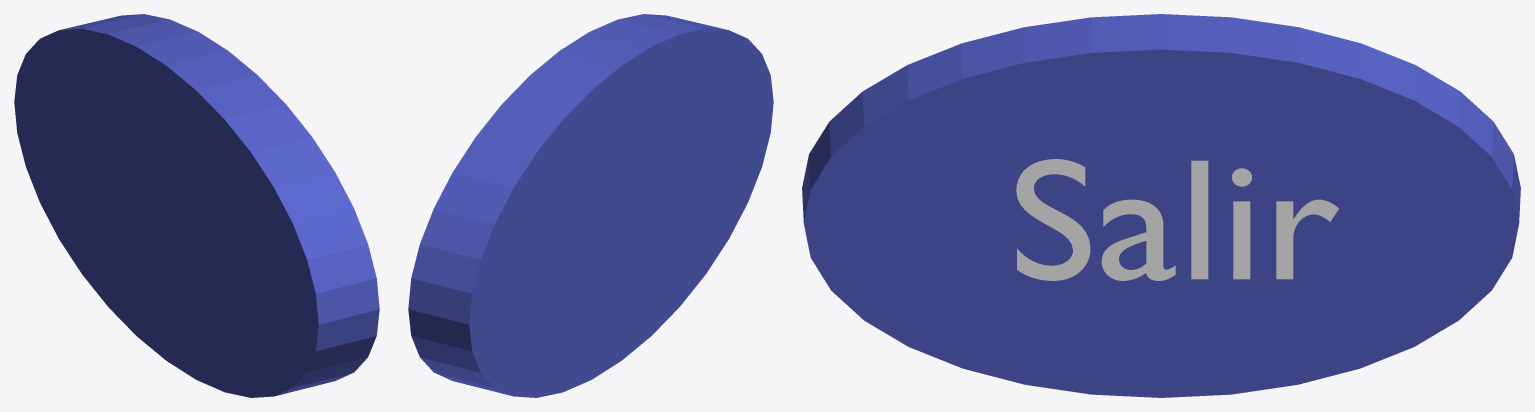
The model's file is salir.glb.
3 renders of one model, left to right at view 1: azimuth 30°, elevation 25°; view 2: azimuth 150°, elevation 25°; view 3: azimuth 270°, elevation 25°, orthographic. The views are drawn at different scales.
Visible parts, largest first — view 1: Cilindro; view 2: Cilindro; view 3: Cilindro, Texto.
Part boxes in pixels (x1,y1,x2,y2): Cilindro: [14, 14, 379, 397]; Cilindro: [408, 14, 773, 397]; Cilindro: [802, 14, 1520, 397]; Texto: [1016, 159, 1338, 280].
Size of the model in its own units: 0.0927 by 0.4 by 0.7479.
